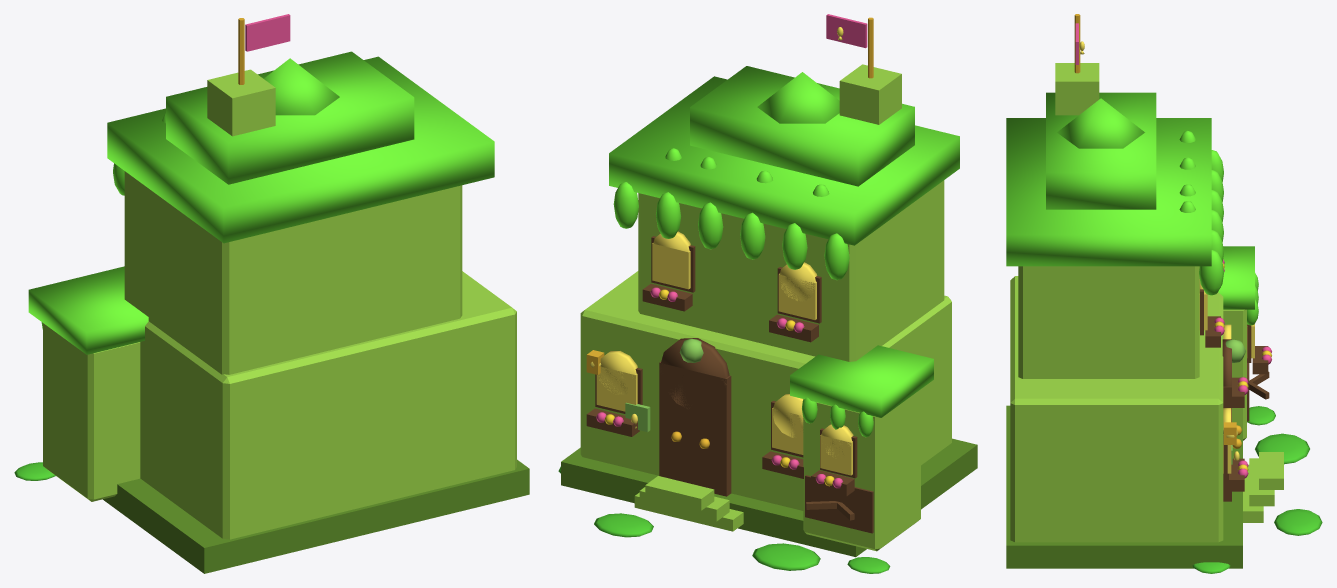
The model's file is SlimeHouse_Upgrade1.obj.
3 renders of one model, left to right at view 1: azimuth 30°, elevation 25°; view 2: azimuth 150°, elevation 25°; view 3: azimuth 270°, elevation 25°, orthographic. The views are drawn at different scales.
Parts seen in each view (by area): view 1: SlimeHouse_Upgrade1; view 2: SlimeHouse_Upgrade1; view 3: SlimeHouse_Upgrade1.
Boxes of the visible parts, x1=… form: SlimeHouse_Upgrade1: x1=14, y1=14, x2=529, y2=573; SlimeHouse_Upgrade1: x1=558, y1=14, x2=977, y2=573; SlimeHouse_Upgrade1: x1=1006, y1=14, x2=1322, y2=573.
Bounding box in the file's own units: 2.51 × 3.14 × 2.
